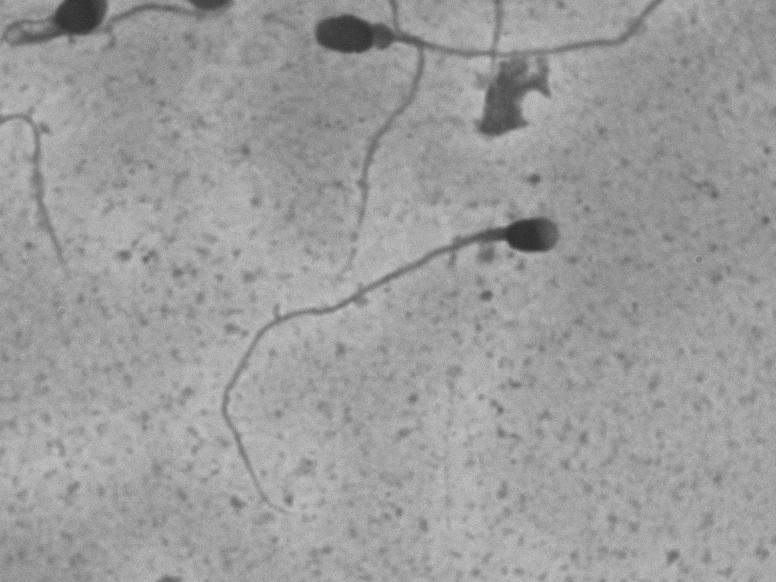Abnormal: (279, 5, 668, 117)
Normal: (176, 199, 607, 521)
